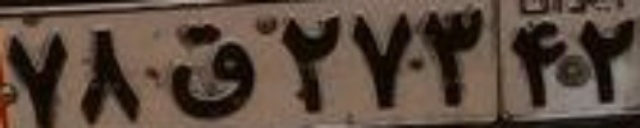2: (576, 16, 638, 106), (279, 13, 335, 111)
3: (422, 9, 483, 107)
4: (509, 20, 566, 108)
7: (5, 29, 68, 127), (350, 11, 410, 108)
8: (77, 28, 145, 123)
ghaf: (162, 23, 258, 119)
